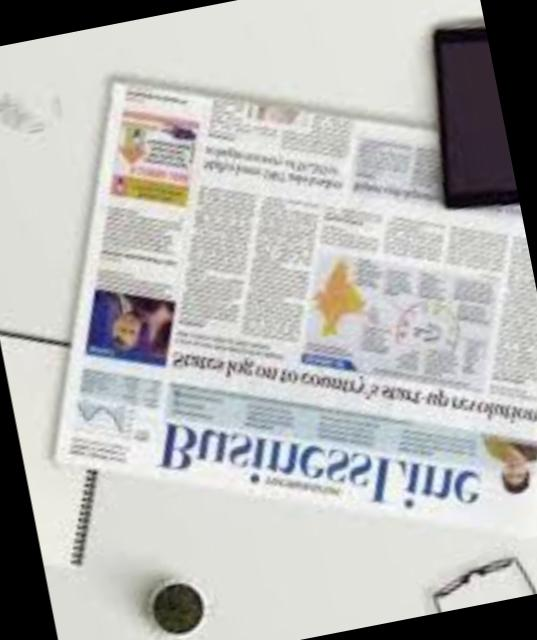cardboard paper: (53, 88, 537, 538)
